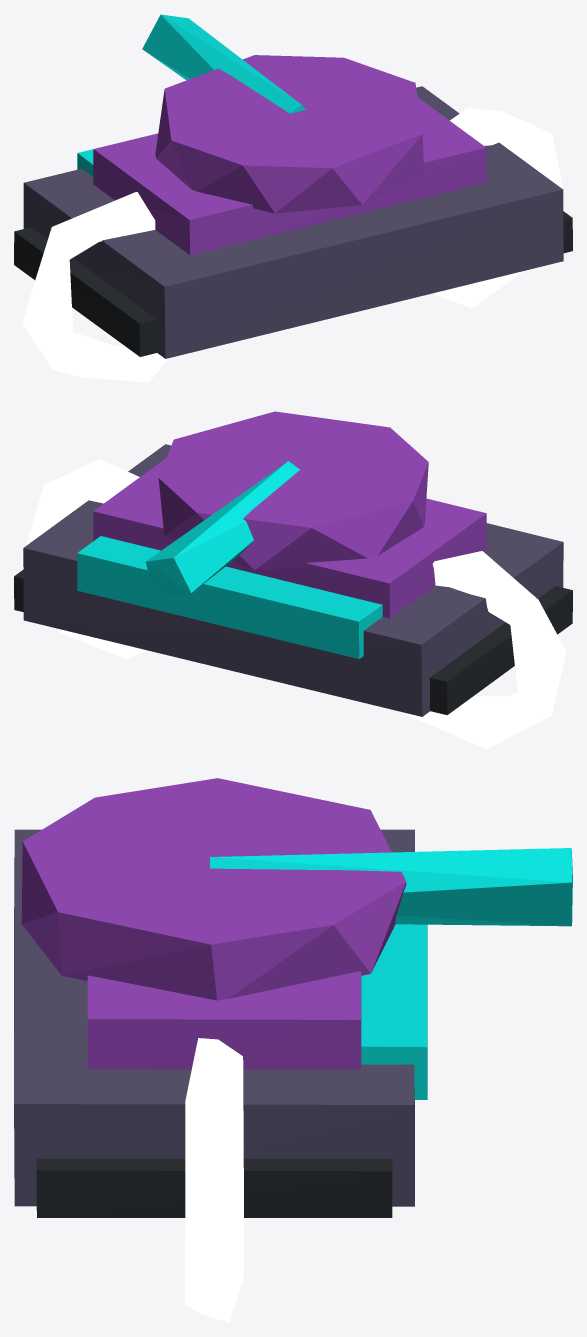
File: SM_Chronolegion_CH_TimelineTank_LOD3.fbx
The picture shows the model from 3 angles, top to bottom: view 1: azimuth 30°, elevation 25°; view 2: azimuth 150°, elevation 25°; view 3: azimuth 270°, elevation 25°; orthographic projection. The views are drawn at different scales.
Parts seen in each view (by area): view 1: LOD03_SM_Chronolegion_CH_TimelineTank; view 2: LOD03_SM_Chronolegion_CH_TimelineTank; view 3: LOD03_SM_Chronolegion_CH_TimelineTank.
Boxes of the visible parts, box(x1,y1,x2,y2) form: LOD03_SM_Chronolegion_CH_TimelineTank: box(14, 14, 572, 382); LOD03_SM_Chronolegion_CH_TimelineTank: box(14, 411, 572, 749); LOD03_SM_Chronolegion_CH_TimelineTank: box(14, 778, 572, 1322).
Bounding box in the file's own units: 556 × 355 × 239.
